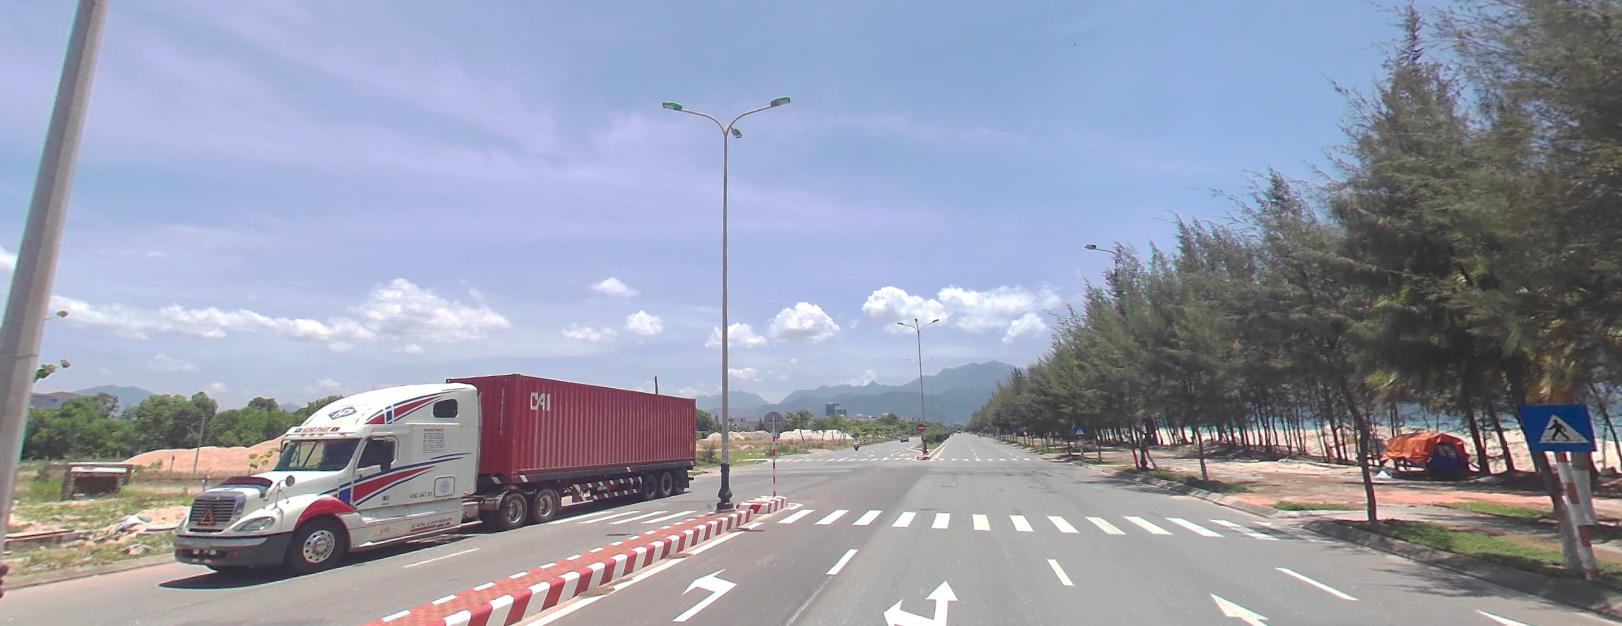Cam nguoc chieu: (917, 422, 924, 430)
